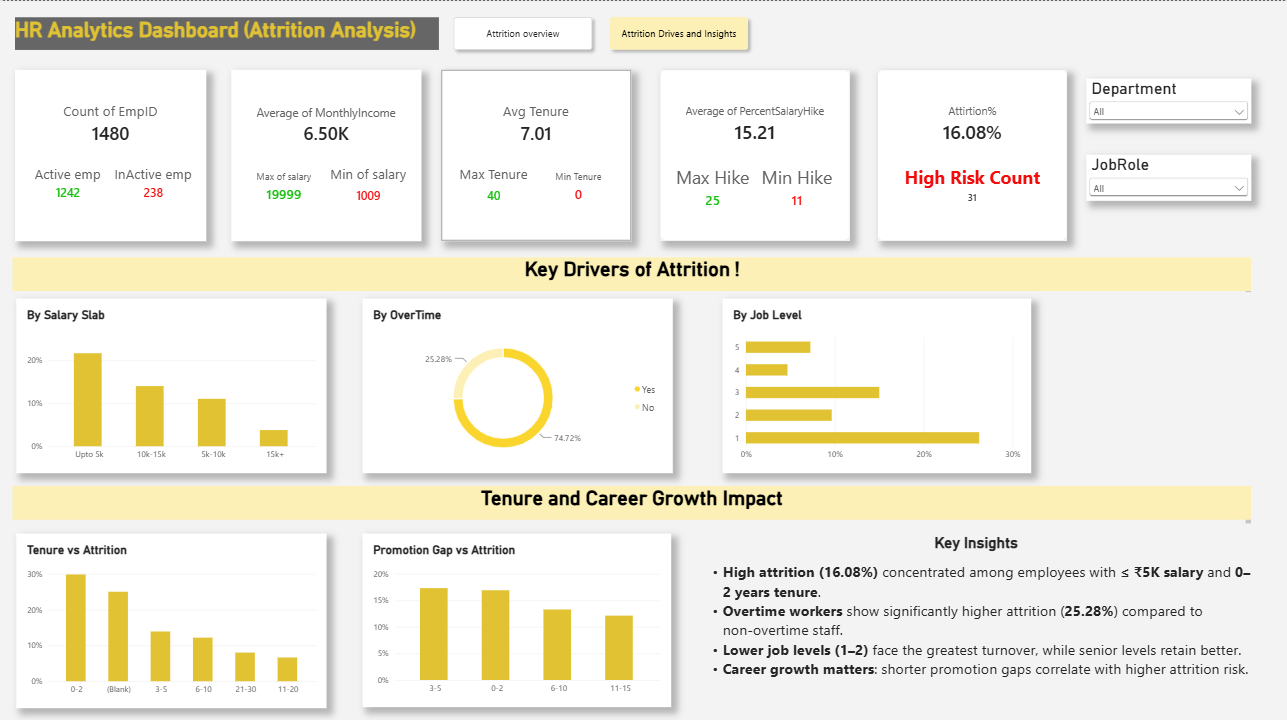

Layout of this report page (visuals, bound fields, positions):
{"tool":"powerbi","page":{"name":"Attrition Drives and Insights","canvas":[1920,1080],"ordinal":1},"visuals":[{"type":"cardVisual","fields":{"Data":["CountNonNull(HR_Analytics - HR_Analytics.EmpID)"]},"box":[22.4,102.6,285.5,255.6],"z":0},{"type":"cardVisual","fields":{"Data":["Avg(HR_Analytics - HR_Analytics.MonthlyIncome)"]},"box":[344.4,101.9,283.6,255.6],"z":1000},{"type":"cardVisual","fields":{"Data":["Avg(HR_Analytics - HR_Analytics.YearsAtCompany)"]},"box":[659.3,101.9,283.6,255.6],"z":2000},{"type":"cardVisual","fields":{"Data":["Avg(HR_Analytics - HR_Analytics.PercentSalaryHike)"]},"box":[985.2,101.9,283.6,255.6],"z":3000},{"type":"cardVisual","fields":{"Data":["_Measure.Attirtion%"]},"box":[1309.3,101.9,283.3,255.6],"z":4000},{"type":"textbox","title":"Key Drivers of Attrition !","box":[18.7,382.5,1849.1,52.2],"z":5000},{"type":"columnChart","title":"By Salary Slab","fields":{"Category":["HR_Analytics - HR_Analytics.SalarySlab"],"Y":["_Measure.Attirtion%"]},"box":[24.1,444.4,463,261.1],"z":6000},{"type":"donutChart","title":"By OverTime","fields":{"Category":["HR_Analytics - HR_Analytics.OverTime"],"Y":["_Measure.Attirtion%"]},"box":[540.7,444.4,463,261.1],"z":7000},{"type":"barChart","title":"By Job Level","fields":{"Category":["HR_Analytics - HR_Analytics.JobLevel"],"Y":["_Measure.Attirtion%"]},"box":[1077.8,444.4,461.1,261.1],"z":8000},{"type":"textbox","title":"Tenure and Career Growth Impact","box":[18.7,724,1849.1,56],"z":9000},{"type":"textbox","title":"HR Analytics Dashboard (Attrition Analysis)","box":[22.2,24.1,632.6,48.5],"z":11000},{"type":"columnChart","title":"Promotion Gap vs Attrition","fields":{"Category":["HR_Analytics - HR_Analytics.YearSinceLastPromotion Group"],"Y":["_Measure.Attirtion%"]},"box":[540.7,794.4,461.1,259.3],"z":12000},{"type":"slicer","fields":{"Values":["HR_Analytics - HR_Analytics.Department"]},"box":[1622.2,114.8,246.3,67.2],"z":13000},{"type":"slicer","fields":{"Values":["HR_Analytics - HR_Analytics.JobRole"]},"box":[1622.2,229.6,246.3,69],"z":14000},{"type":"pageNavigator","box":[668,14.9,459,67.2],"z":14001},{"type":"columnChart","title":"Tenure vs Attrition","fields":{"Category":["HR_Analytics - HR_Analytics.YearAtCompany Group"],"Y":["_Measure.Attirtion%"]},"box":[24.1,794.4,463,261.1],"z":14002}]}

Visuals, with their boxes in screenshot pixels (x1, y1, x2, y2), scaled from the page's 1920x1080 canvas onto the 1287x720 screenshot:
cardVisual - CountNonNull(HR_Analytics - HR_Analytics.EmpID): 15:68:206:239
cardVisual - Avg(HR_Analytics - HR_Analytics.MonthlyIncome): 231:68:421:238
cardVisual - Avg(HR_Analytics - HR_Analytics.YearsAtCompany): 442:68:632:238
cardVisual - Avg(HR_Analytics - HR_Analytics.PercentSalaryHike): 660:68:850:238
cardVisual - _Measure.Attirtion%: 878:68:1068:238
"Key Drivers of Attrition !" textbox: 13:255:1252:290
"By Salary Slab" columnChart: 16:296:327:470
"By OverTime" donutChart: 362:296:673:470
"By Job Level" barChart: 722:296:1032:470
"Tenure and Career Growth Impact" textbox: 13:483:1252:520
"HR Analytics Dashboard (Attrition Analysis)" textbox: 15:16:439:48
"Promotion Gap vs Attrition" columnChart: 362:530:672:702
slicer - HR_Analytics - HR_Analytics.Department: 1087:77:1252:121
slicer - HR_Analytics - HR_Analytics.JobRole: 1087:153:1252:199
pageNavigator: 448:10:755:55
"Tenure vs Attrition" columnChart: 16:530:327:704
